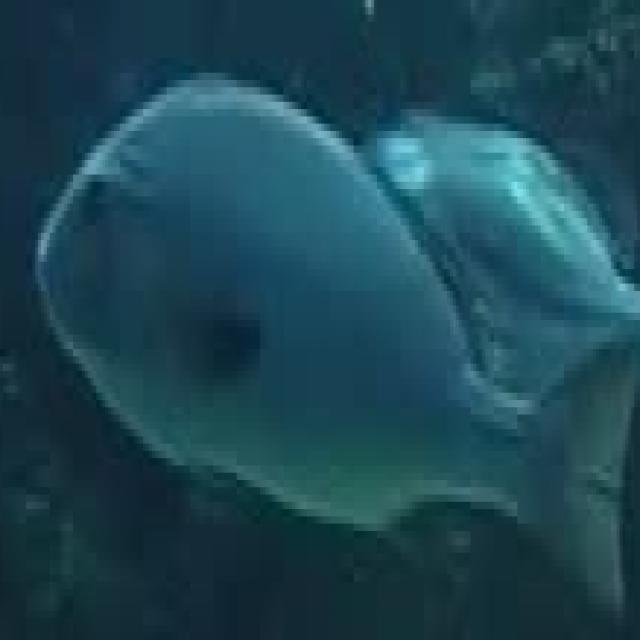fish: (0, 7, 637, 640)
